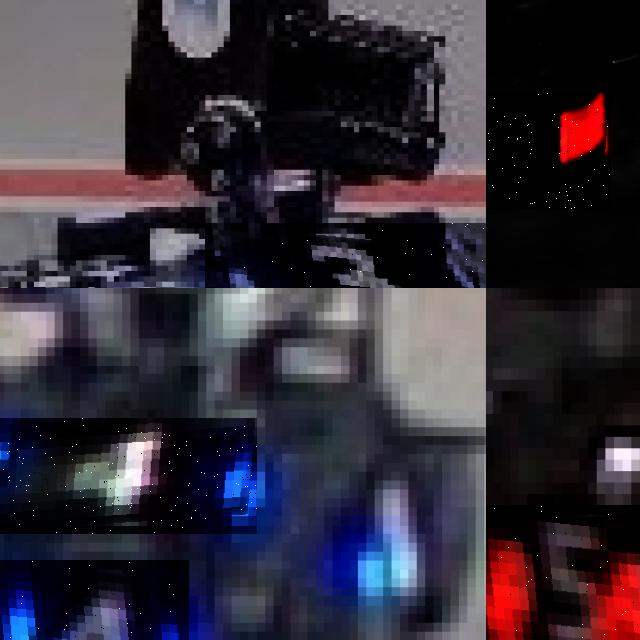B3: (205, 223, 486, 288)
B4: (0, 418, 256, 533), (0, 560, 189, 640)
R5: (486, 505, 640, 640)
Rs: (486, 93, 610, 209)
